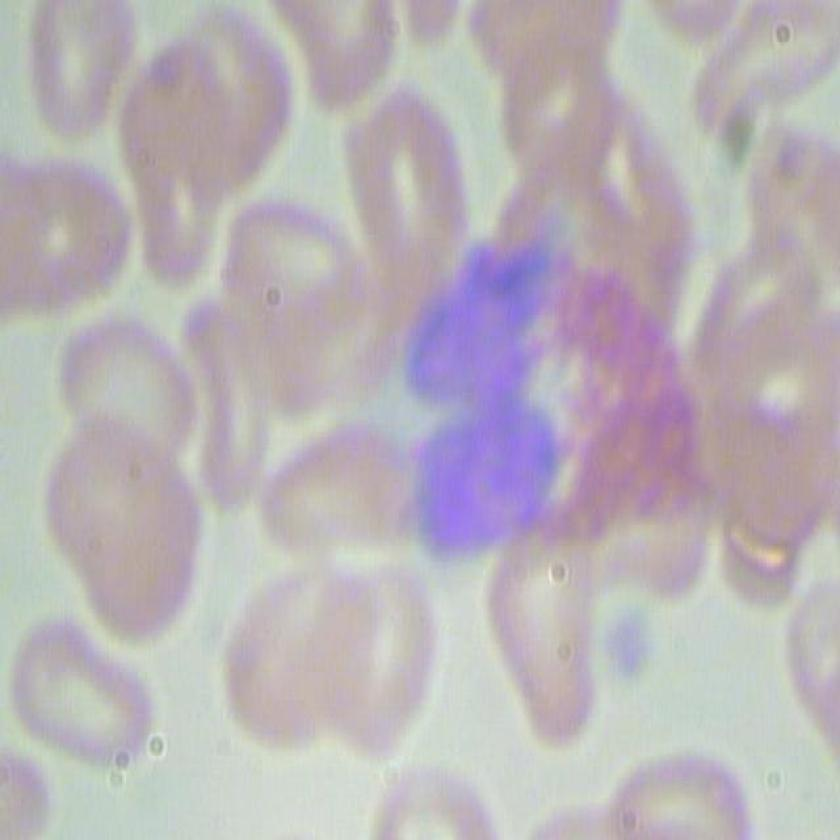eosinophil: (395, 198, 714, 581)
